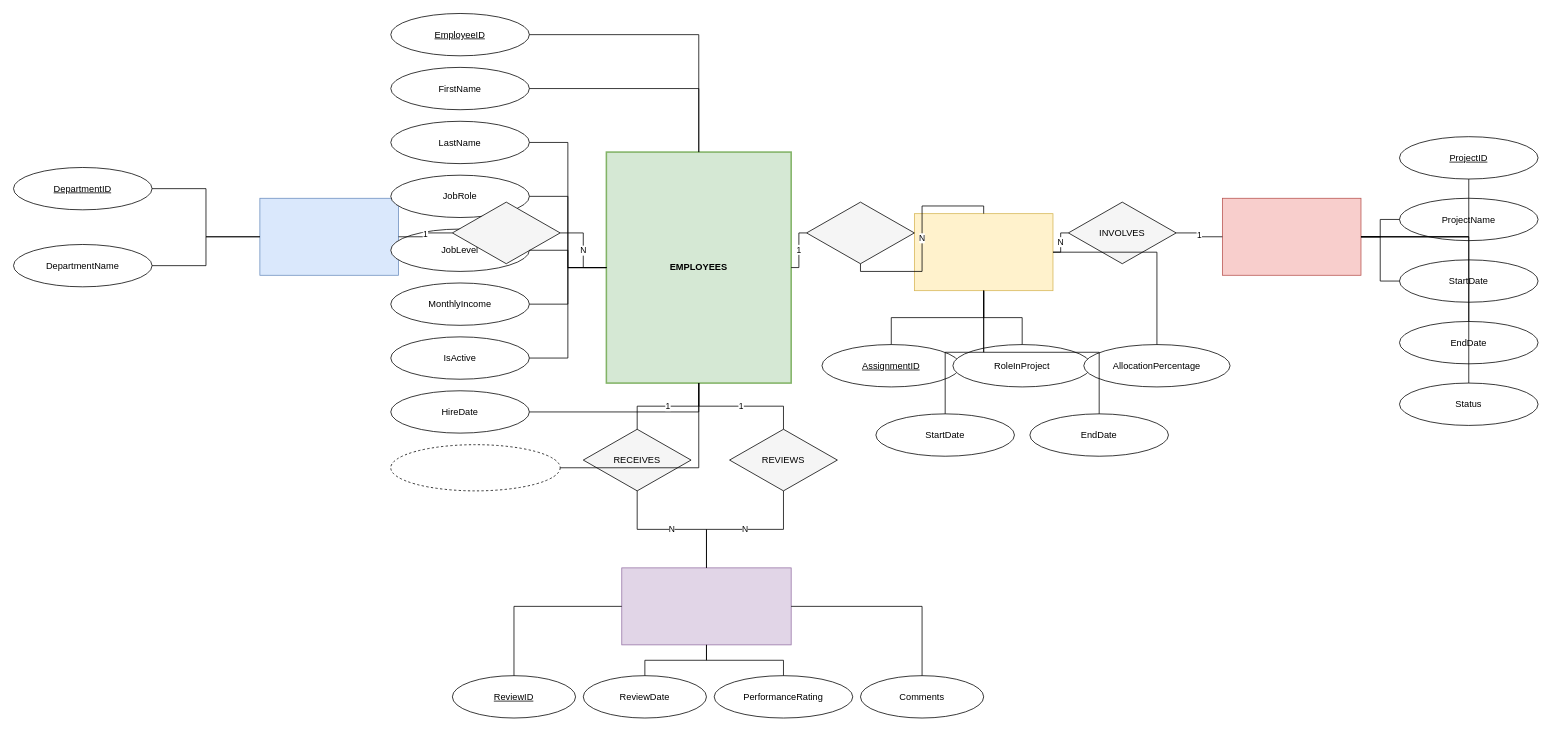
Image size: 1552x732. Some labels were removed from this diagram. The shapes that lost their labels are listed below. From the top down, each one's box as (x1, y1, x2, y2) in pixels, then its label:
(259, 198, 398, 275): DEPARTMENTS
(452, 201, 560, 264): BELONGS_TO
(806, 201, 914, 264): ASSIGNED_TO
(914, 213, 1053, 291): ASSIGNMENTS
(1222, 198, 1361, 275): PROJECTS
(390, 444, 560, 491): OtherAttributes (25 more columns)
(621, 567, 791, 645): PERFORMANCE_REVIEWS
